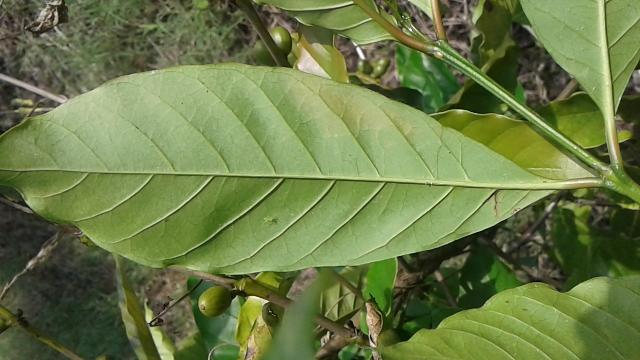healthy: (0, 63, 565, 270)
